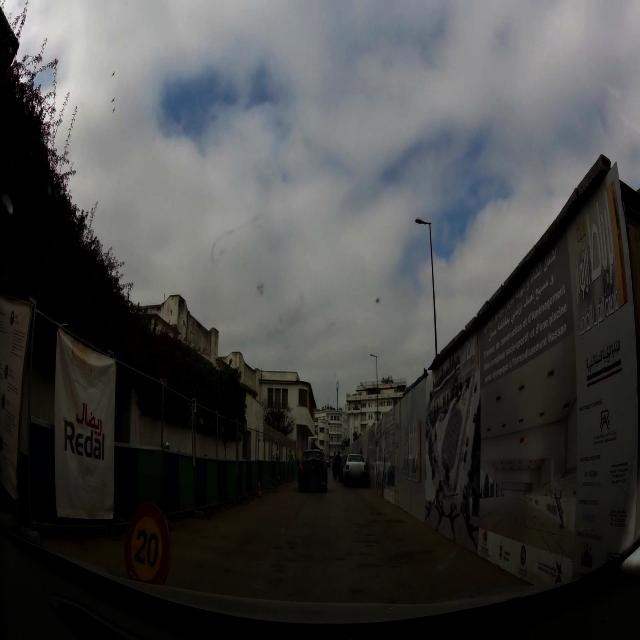car: (298, 448, 328, 493), (342, 452, 369, 487)
